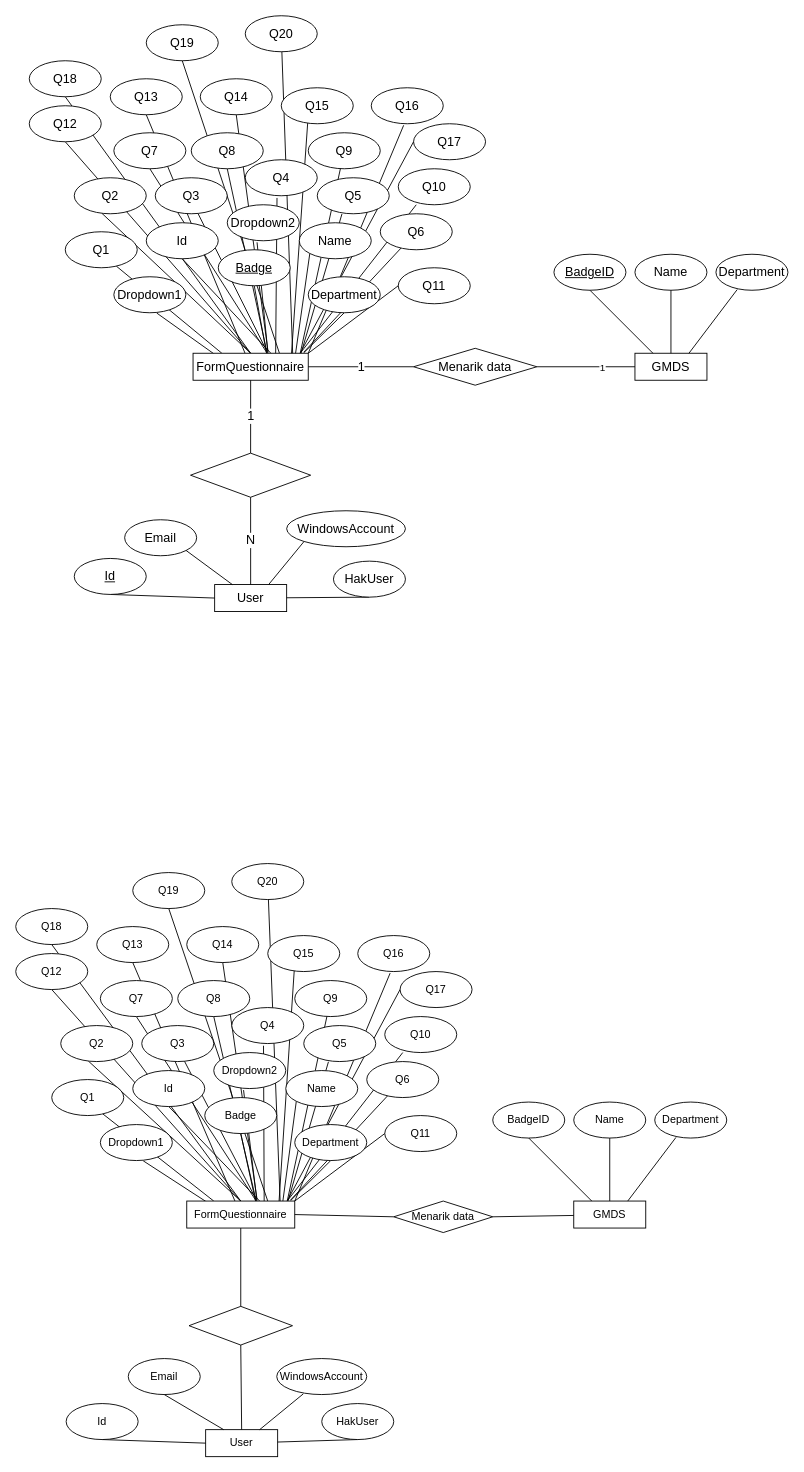
This 804x1472 diagram has some shape labels left out. The shapes that lost their labels are listed below. From the top down, each one's centre as x and y in pixels, then its label:
(250,474): Mengisi formulir
(240,1325): Mengolah data
